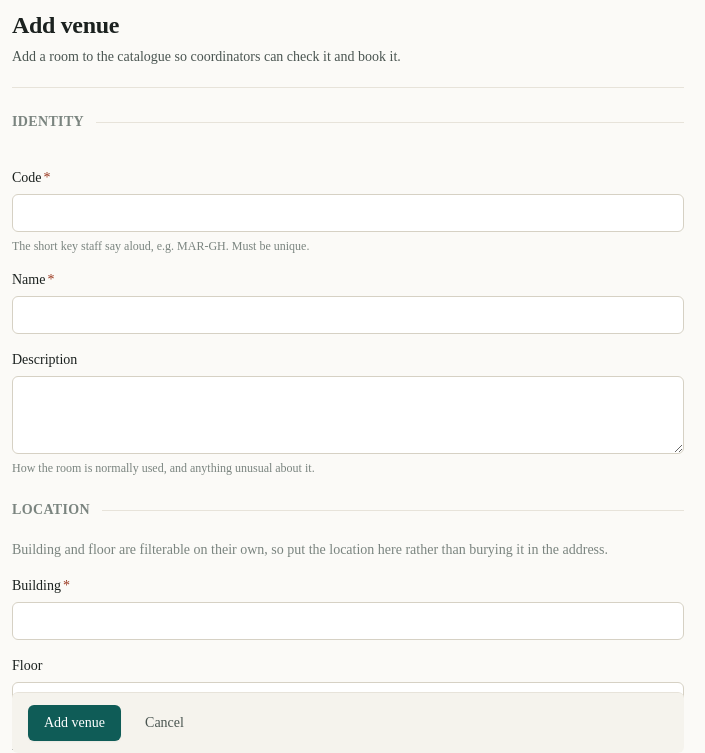
Add venue › what it refuses before sending › [SPM-39][AC1] no closing time
The width and height of the screenshot is (705, 753).
Type "HALL-A" into the field labelled "Code*" at (348, 213), box [12,194,684,232]
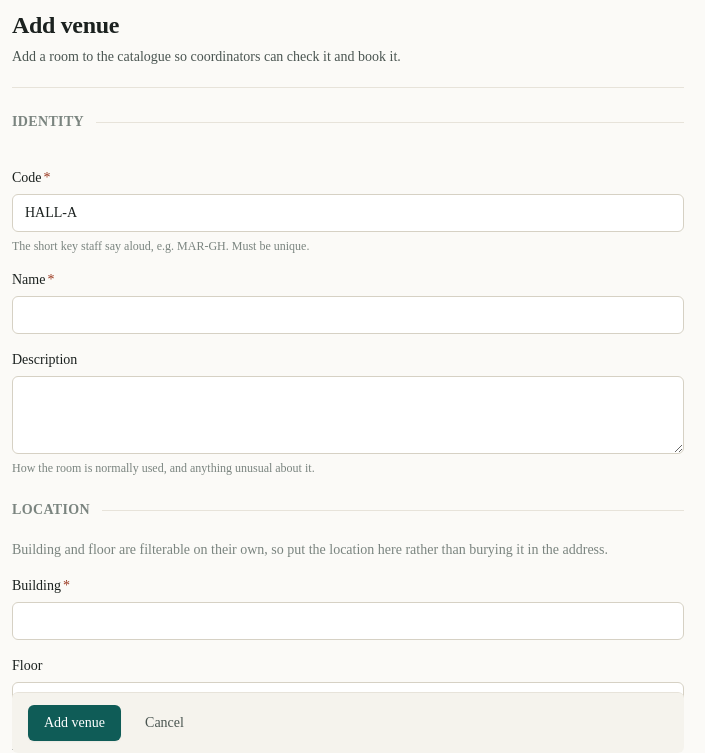
Type "Hall A" into the field labelled "Name*" at (348, 315), box [12,296,684,334]
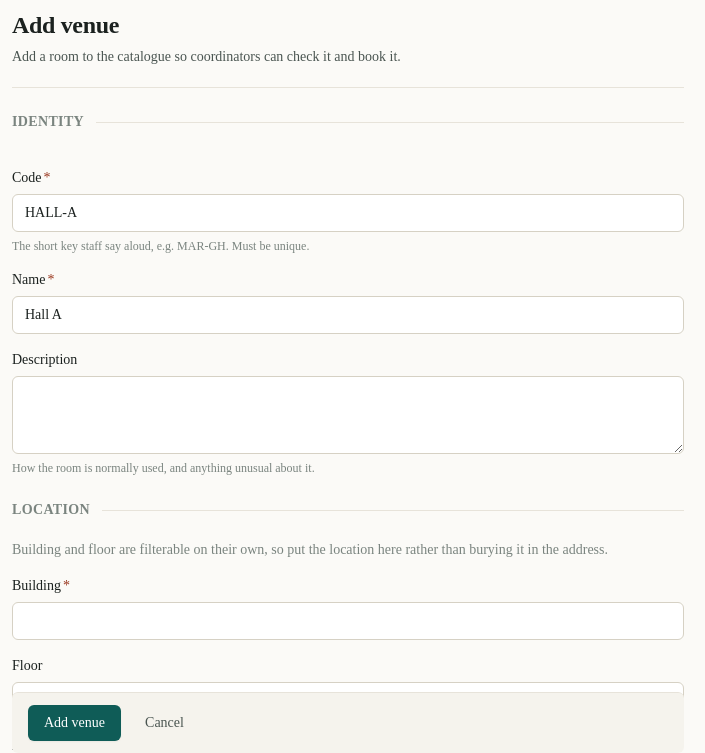
Type "Tower 1" into the field labelled "Building*" at (348, 621), box [12,602,684,640]
(page scrolled)
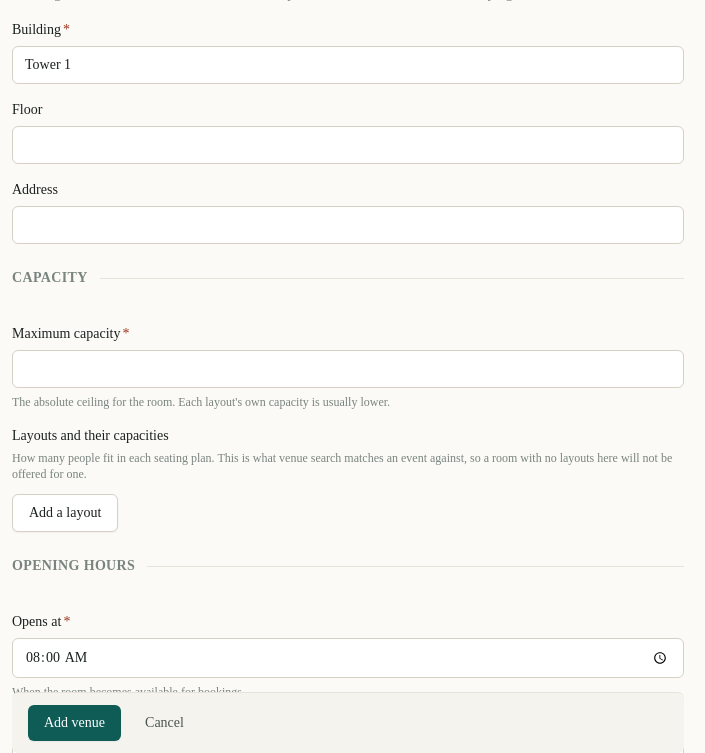
Type "300" into the number field labelled "Maximum capacity*" at (348, 369), box [12,350,684,388]
(page scrolled)
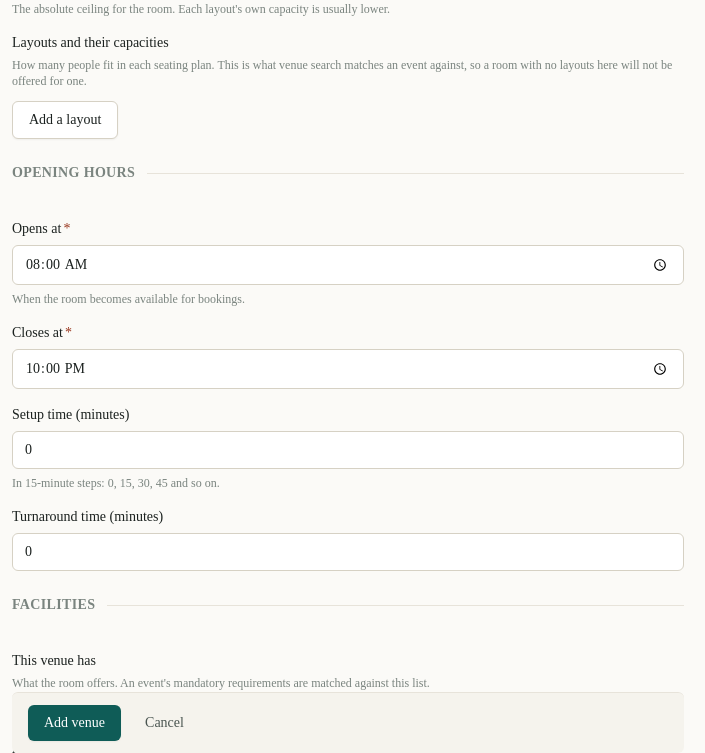
Clear the time field labelled "Closes at*" at (348, 369), box [12,349,684,389]
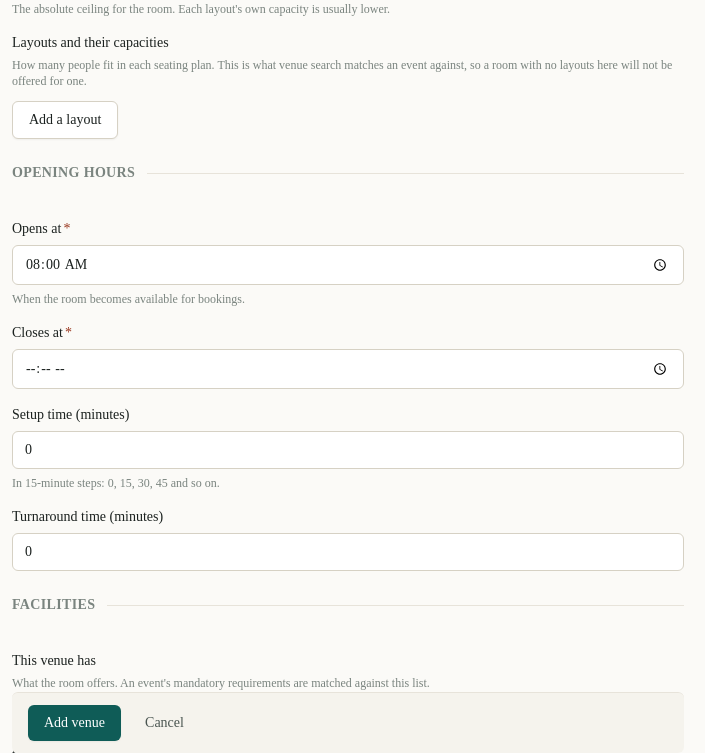
Click the button "Add venue" at (74, 723), box [28,705,121,741]
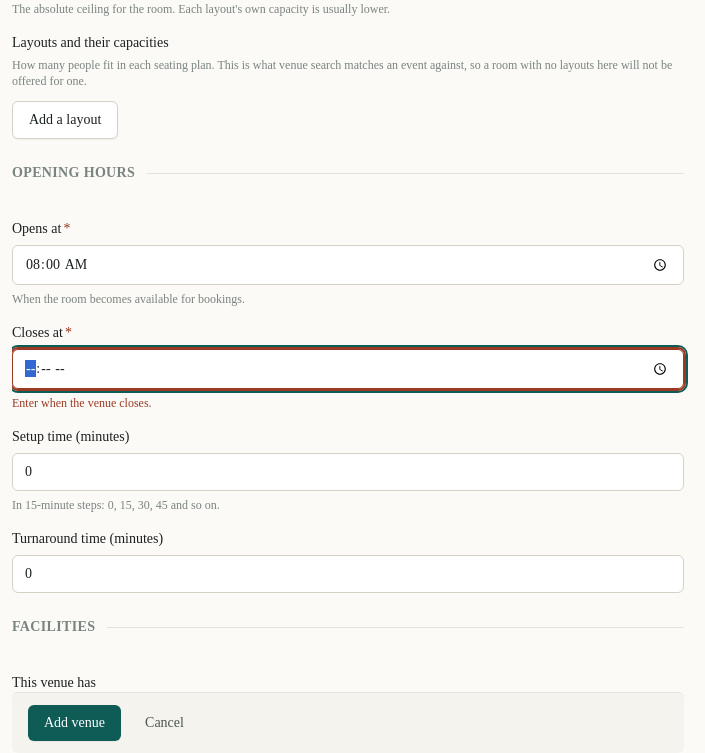
Expected: the text "Enter when the venue closes." is shown, [12,396,152,410]
